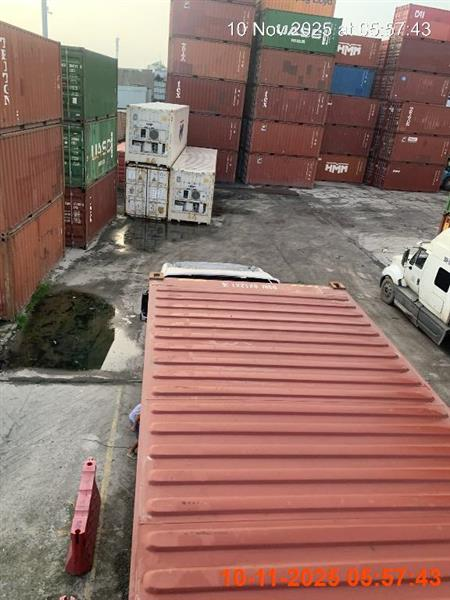crack: (127, 260, 449, 599), (378, 225, 449, 348)
